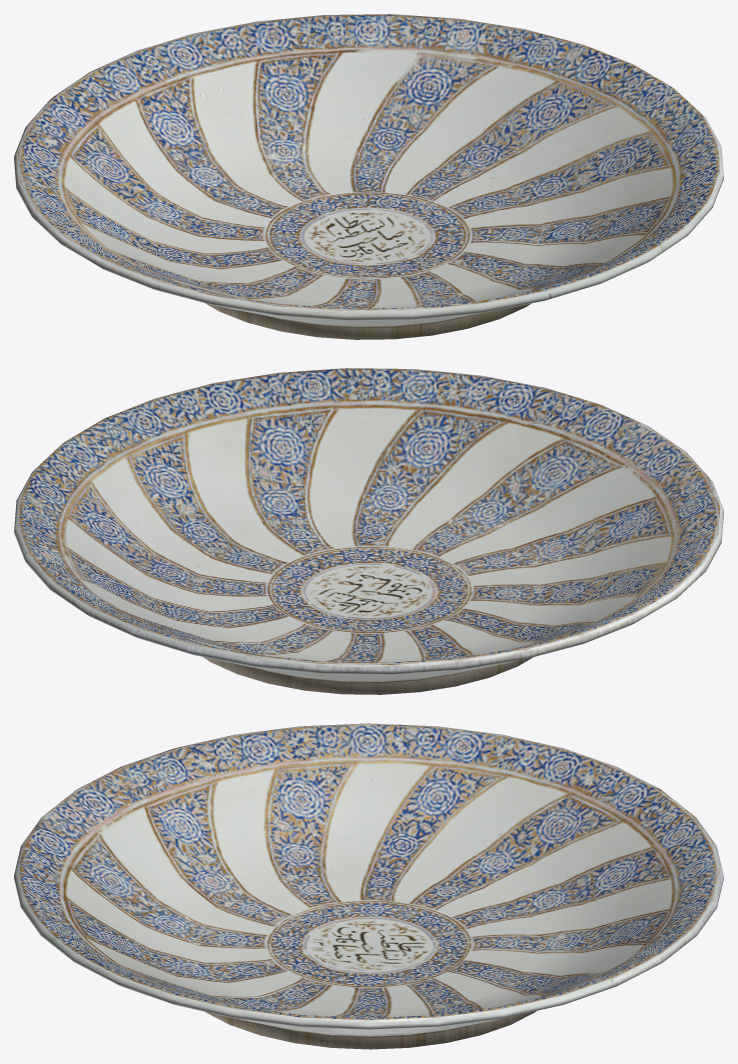
File: charger_for_the_islamic_market_-_blender_version.glb
3 renders of one model, top to bottom at view 1: azimuth 30°, elevation 25°; view 2: azimuth 150°, elevation 25°; view 3: azimuth 270°, elevation 25°, orthographic.
Visible parts, largest first — view 1: Object_2; view 2: Object_2; view 3: Object_2.
Part boxes in pixels (bbox=[...]): Object_2: bbox=[14, 14, 723, 339]; Object_2: bbox=[14, 368, 723, 694]; Object_2: bbox=[14, 723, 723, 1049].
Bounding box in the file's own units: 3.71 × 0.5429 × 3.71.
Materials: 1 (1 with a texture image).
